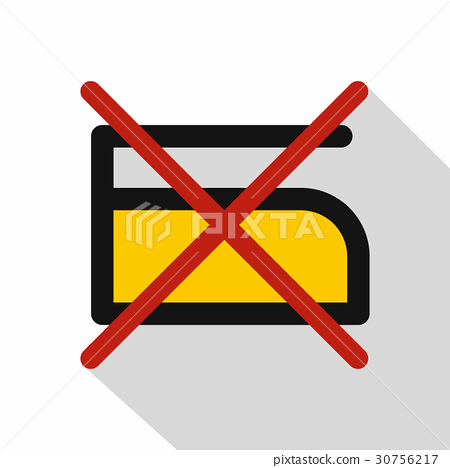do_not_iron: (81, 79, 372, 370)
